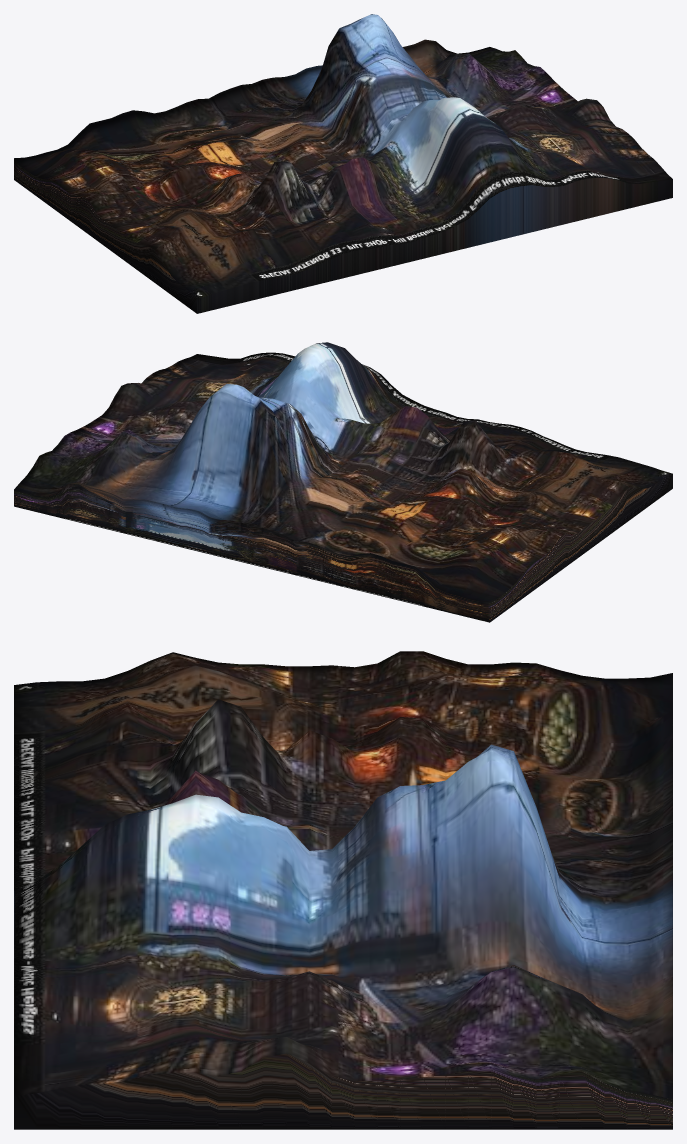
Rendered from SPECIAL_INT_13_Pill_Shop.glb.
The picture shows the model from 3 angles, top to bottom: view 1: azimuth 30°, elevation 25°; view 2: azimuth 150°, elevation 25°; view 3: azimuth 270°, elevation 25°; orthographic projection. The views are drawn at different scales.
Visible parts, largest first — view 1: SPECIAL_INT_13_Pill_Shop; view 2: SPECIAL_INT_13_Pill_Shop; view 3: SPECIAL_INT_13_Pill_Shop.
Part boxes in pixels (bbox=[...]): SPECIAL_INT_13_Pill_Shop: bbox=[14, 14, 672, 313]; SPECIAL_INT_13_Pill_Shop: bbox=[14, 342, 672, 622]; SPECIAL_INT_13_Pill_Shop: bbox=[14, 651, 672, 1129].
Bounding box in the file's own units: 2 × 0.51 × 1.33.
1 material, 1 textured.
